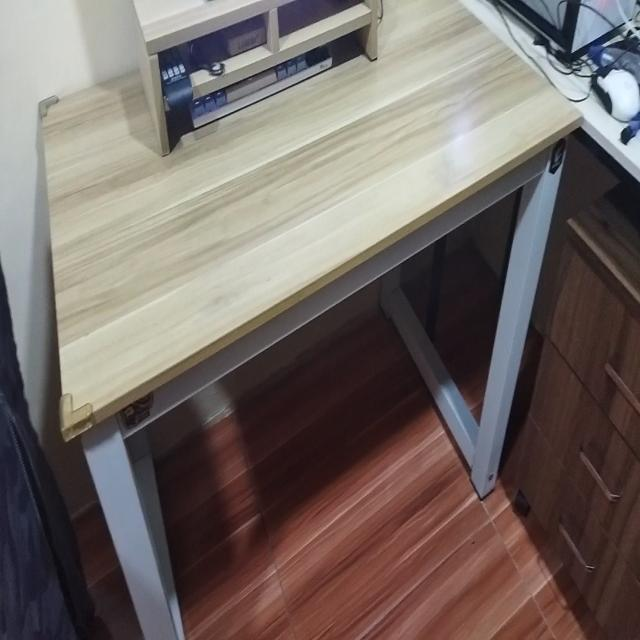table: (39, 0, 585, 640)
